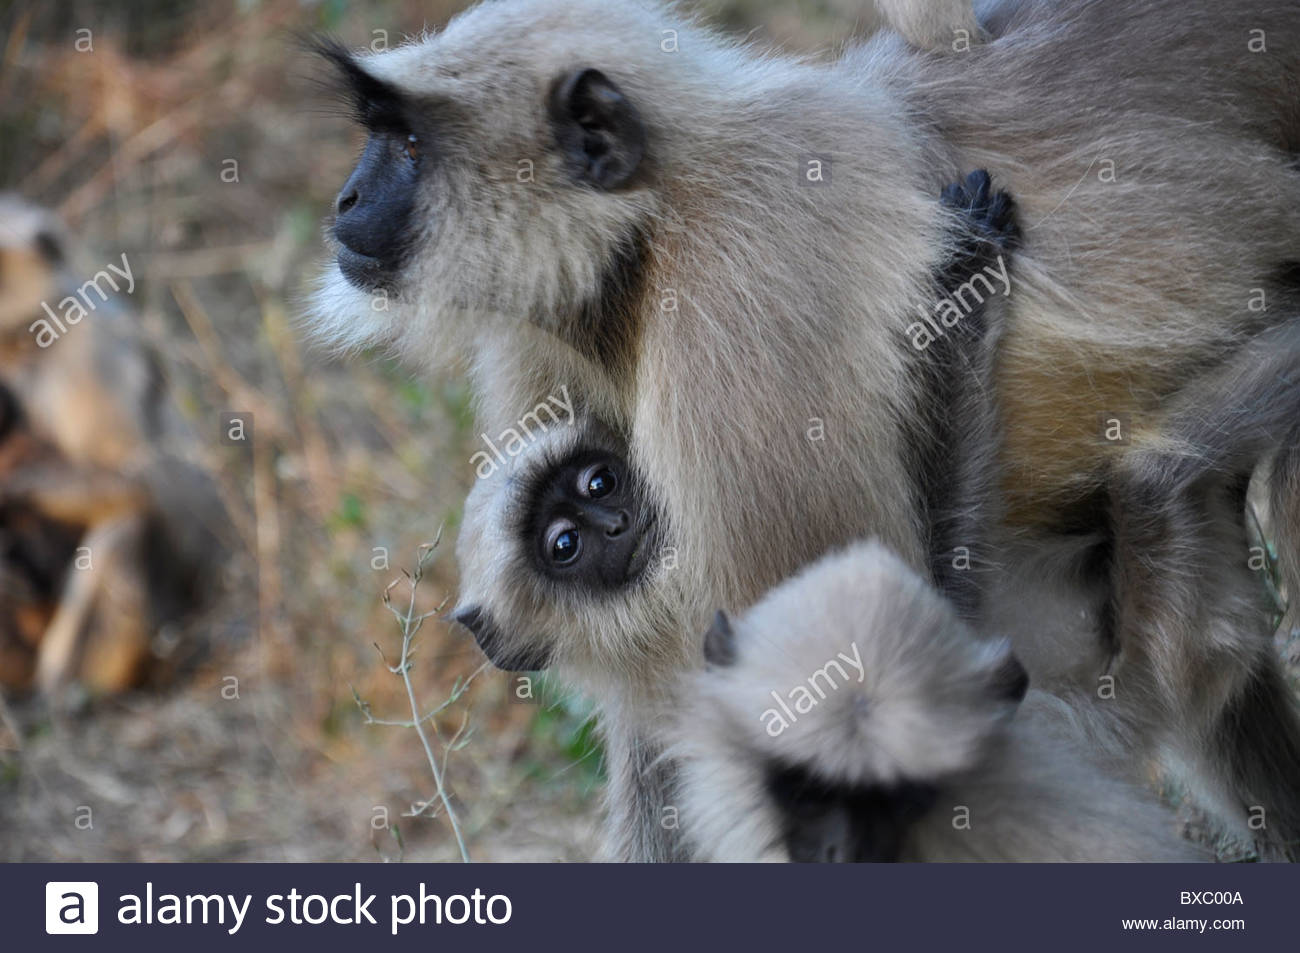langur: (337, 1, 1279, 802), (443, 402, 1300, 906)
